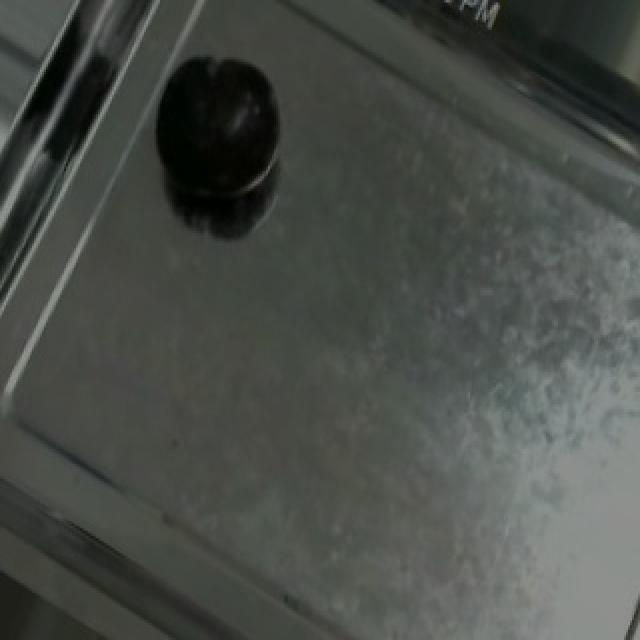Fruit: (134, 35, 300, 221)
